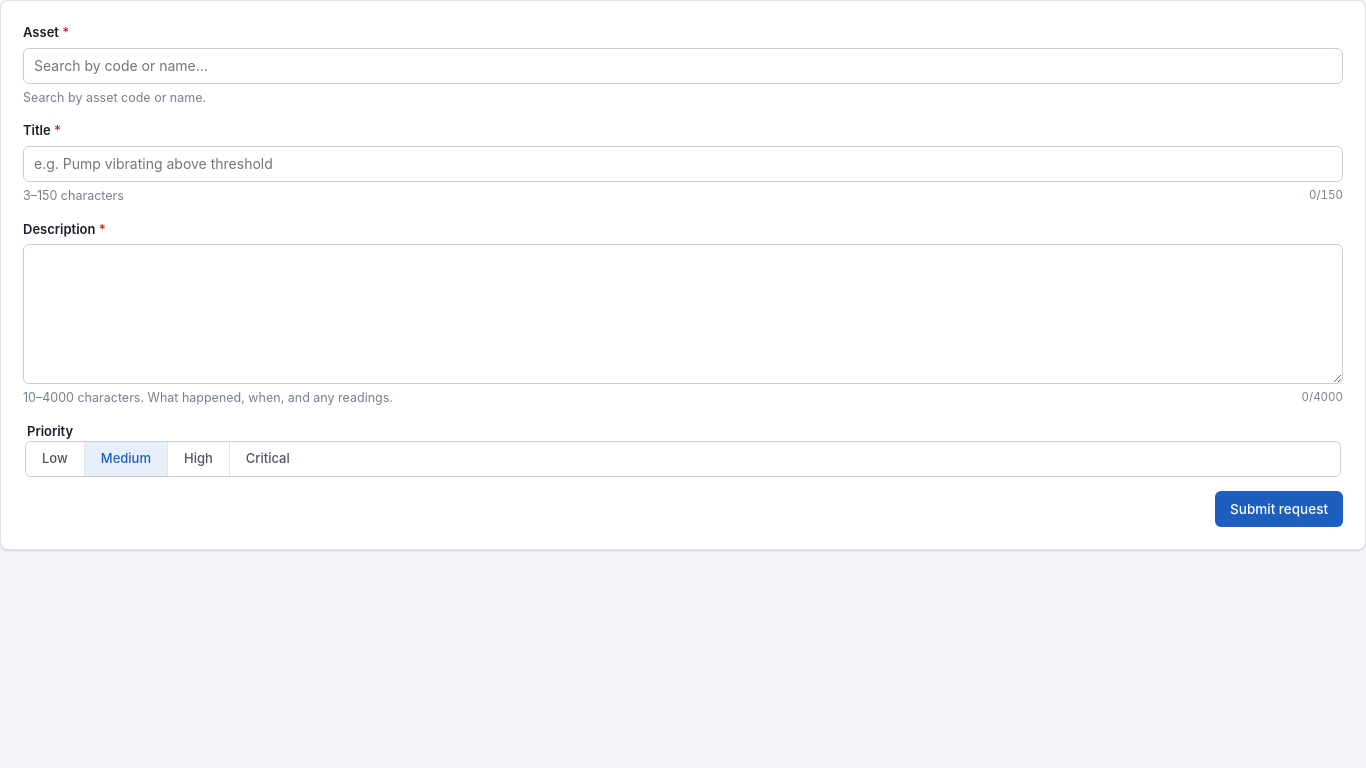
Scenario: Create maintenance request form › shows validation messages for empty input and does not call the API
Click the button "Submit request" at (1279, 508), box [1215, 490, 1343, 526]
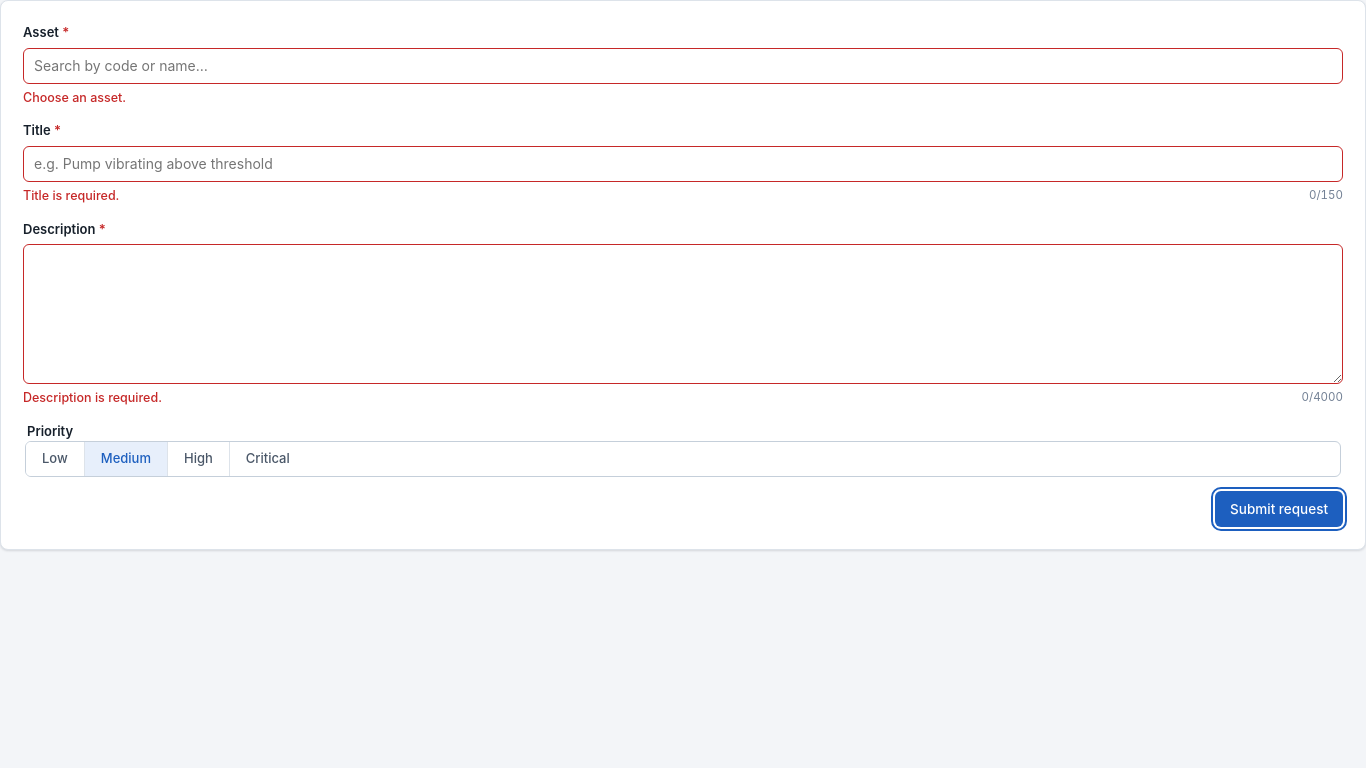
Expected: the text "Choose an asset." is shown, [23, 88, 126, 107]
Expected: the text "Title is required." is shown, [23, 187, 119, 206]
Expected: the text "Description is required." is shown, [23, 389, 162, 408]
